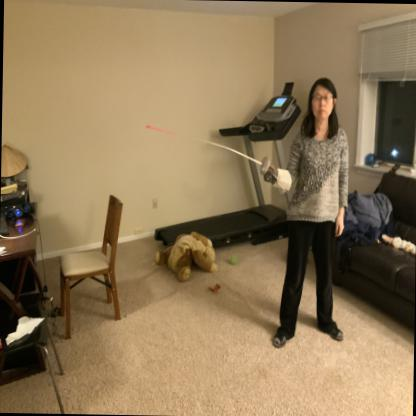foil-tip: (140, 115, 158, 138)
hand-and-foil: (134, 111, 288, 191)
